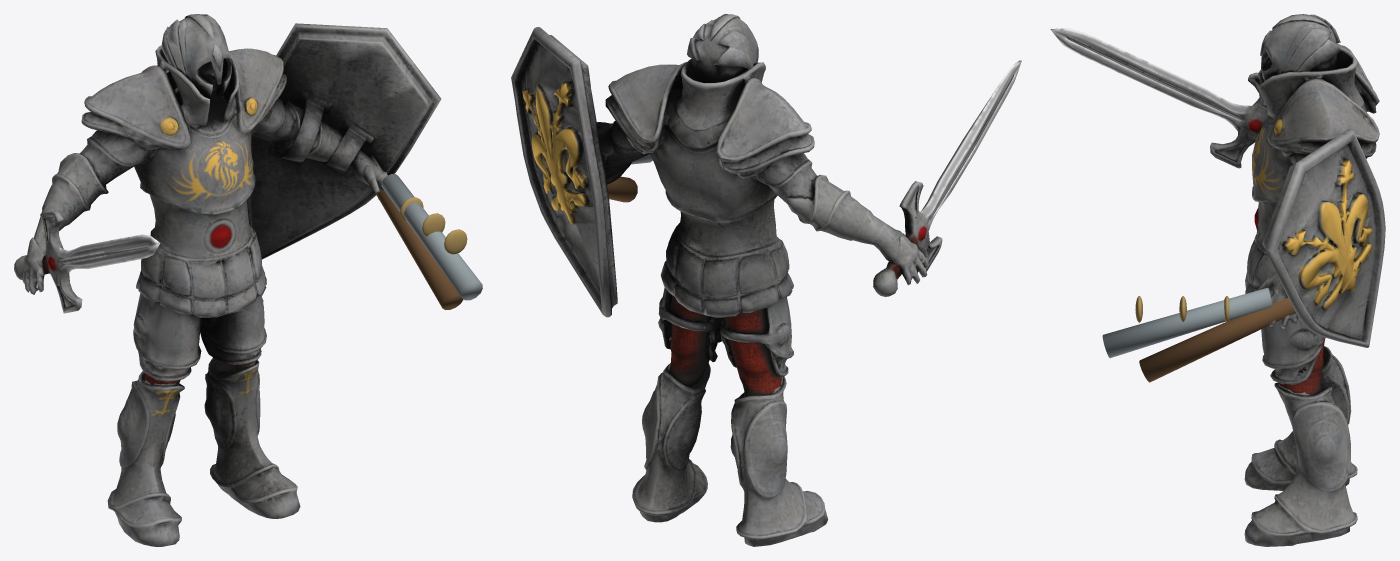
File: actor-gunner.glb
3 renders of one model, left to right at view 1: azimuth 30°, elevation 25°; view 2: azimuth 150°, elevation 25°; view 3: azimuth 270°, elevation 25°, orthographic.
Visible parts, largest first — view 1: Group61487.001 · posed; view 2: Group61487.001 · posed; view 3: Group61487.001 · posed.
Part boxes in pixels (left/top/right/bottom): Group61487.001 · posed: left=14, top=14, right=482, bottom=546; Group61487.001 · posed: left=511, top=14, right=1021, bottom=546; Group61487.001 · posed: left=1050, top=14, right=1385, bottom=546.
Bounding box in the file's own units: 1.72 × 2 × 1.22.
Materials: 4 (1 with a texture image).
